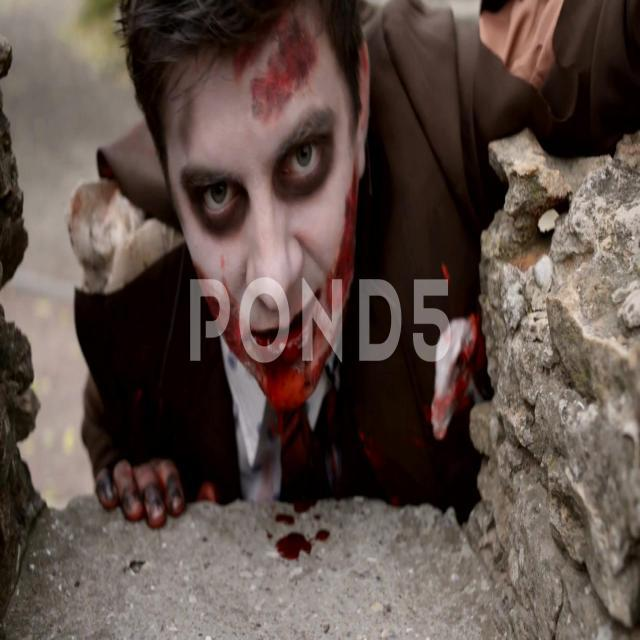flood: (182, 198, 362, 416), (91, 435, 192, 537), (246, 23, 314, 122), (270, 489, 330, 564)
